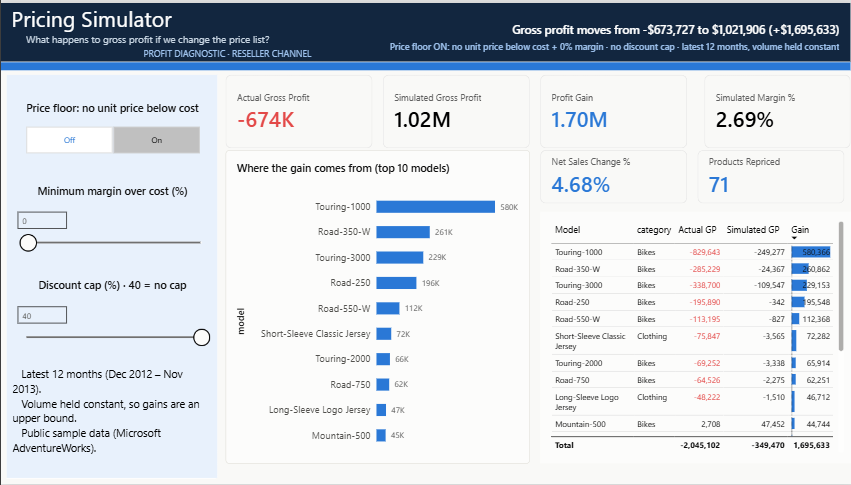

What the dashboard file says about the page in this screenshot:
{"tool":"powerbi","page":{"name":"Pricing Simulator","canvas":[1280,720],"ordinal":0},"visuals":[{"type":"shape","box":[0,0,1273,88],"z":0},{"type":"textbox","box":[214.2,66.2,274.6,21.4],"z":1000},{"type":"shape","box":[8.5,107.3,315.5,604],"z":1000,"group":"g1"},{"type":"cardVisual","fields":{"Data":["_Measures.Headline"]},"box":[712.8,11.7,560.9,54.5],"z":2000},{"type":"slicer","title":"   Minimum margin over cost (%)","fields":{"Values":[" Floor Margin. Floor Margin"]},"box":[17.8,270.3,299.9,109.1],"z":2000,"group":"g1"},{"type":"cardVisual","fields":{"Data":["_Measures.Scenario Description"]},"box":[560.9,52.6,712.8,25.3],"z":3000},{"type":"slicer","title":"   Discount cap (%) · 40 = no cap","fields":{"Values":["Discount Cap.Discount Cap"]},"box":[17.8,411.7,299.9,114.9],"z":3000,"group":"g1"},{"type":"shape","box":[0,88,1273,12],"z":4000},{"type":"textbox","box":[15,2,500.5,44.8],"z":5000},{"type":"textbox","box":[37,44.8,600,26],"z":6000},{"type":"cardVisual","fields":{"Data":["_Measures.Actual Gross Profit"]},"box":[336,108,220,110],"z":7000},{"type":"slicer","title":"   Price floor: no unit price below cost","fields":{"Values":["Price Floor.Apply"]},"box":[17.8,144.2,299.9,81.8],"z":7000,"group":"g1"},{"type":"cardVisual","fields":{"Data":["_Measures.Simulated Gross Profit"]},"box":[572,108,220,110],"z":8000},{"type":"textbox","box":[17.8,544.6,299.9,138.3],"z":8000,"group":"g1"},{"type":"cardVisual","fields":{"Data":["_Measures.Profit Gain"]},"box":[808,108,220,110],"z":9000},{"type":"cardVisual","fields":{"Data":["_Measures.Simulated Margin %"]},"box":[1054.5,107.3,219.8,110.7],"z":10000},{"type":"group","id":"g1","title":"Group 1","box":[8.5,107.3,315.2,604.8],"z":11000},{"type":"clusteredBarChart","title":"Where the gain comes from (top 10 models)","fields":{"Category":["Product.model"],"Y":["_Measures.Profit Gain"]},"box":[336,220,456,470],"z":11001},{"type":"cardVisual","fields":{"Data":["_Measures.Net Sales Change %"]},"box":[808,220,220,80],"z":11002},{"type":"cardVisual","fields":{"Data":["_Measures.Products Repriced"]},"box":[1044,220,220,80],"z":11003},{"type":"tableEx","fields":{"Values":["Product.model","Product.category","_Measures.Actual Gross Profit","_Measures.Simulated Gross Profit","_Measures.Profit Gain"]},"box":[807.9,312.6,471.4,377.5],"z":11004}]}

Visuals, with their boxes in screenshot pixels (x1, y1, x2, y2), scaled from the page's 1280x720 canvas onto the 851x485 screenshot:
shape: 0 0 846 59
textbox: 142 45 325 59
shape: 6 72 215 479
cardVisual - _Measures.Headline: 474 8 847 45
"   Minimum margin over cost (%)" slicer: 12 182 211 256
cardVisual - _Measures.Scenario Description: 373 35 847 52
"   Discount cap (%) · 40 = no cap" slicer: 12 277 211 355
shape: 0 59 846 67
textbox: 10 1 343 32
textbox: 25 30 424 48
cardVisual - _Measures.Actual Gross Profit: 223 73 370 147
"   Price floor: no unit price below cost" slicer: 12 97 211 152
cardVisual - _Measures.Simulated Gross Profit: 380 73 527 147
textbox: 12 367 211 460
cardVisual - _Measures.Profit Gain: 537 73 683 147
cardVisual - _Measures.Simulated Margin %: 701 72 847 147
"Group 1" group: 6 72 215 480
"Where the gain comes from (top 10 models)" clusteredBarChart: 223 148 527 465
cardVisual - _Measures.Net Sales Change %: 537 148 683 202
cardVisual - _Measures.Products Repriced: 694 148 840 202
tableEx - Product.model x Product.category: 537 211 850 465
